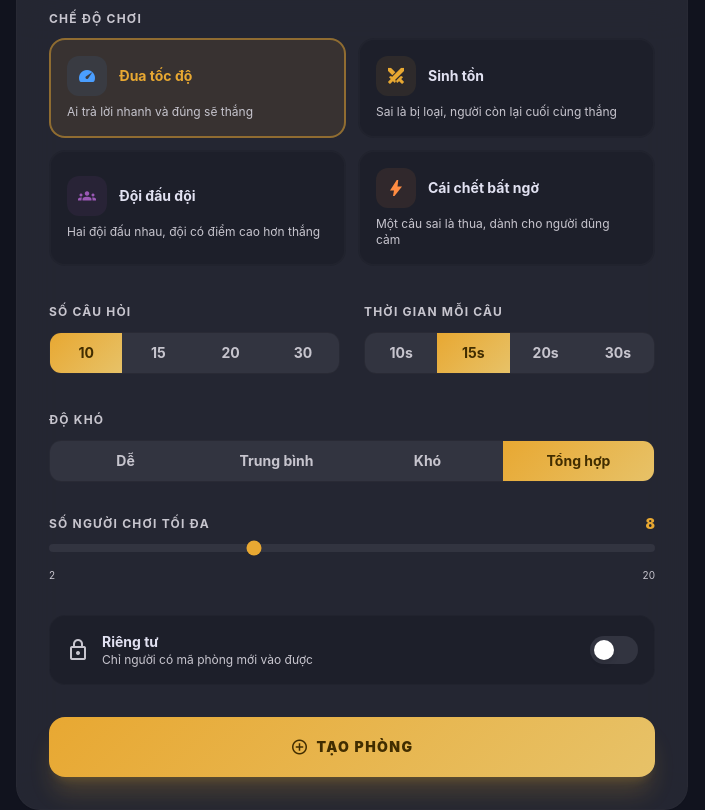
it: CreateRoom › shows loading spinner while submitting
(page scrolled)
Click the submit button: point(352, 747) [49, 717, 655, 777]
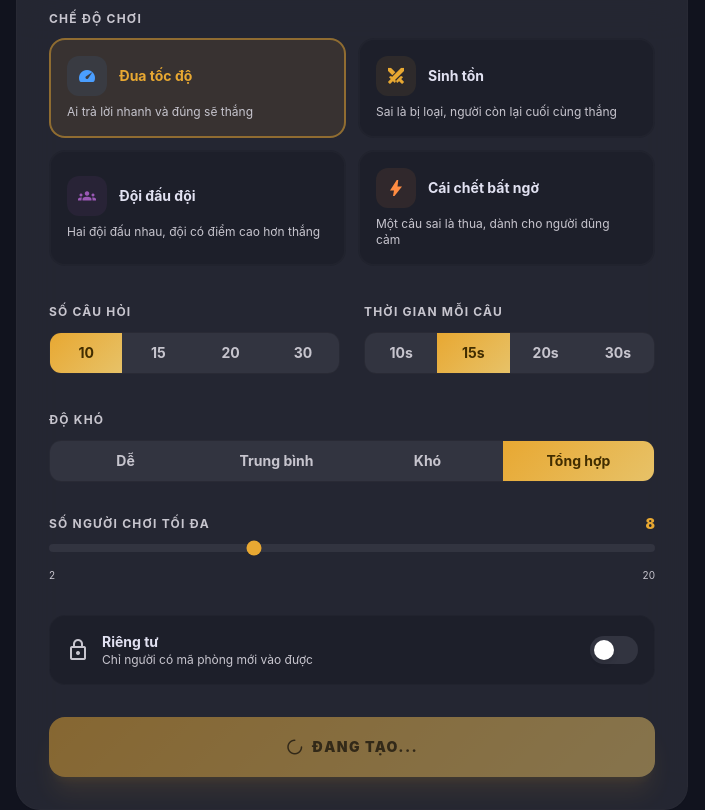
Result: the button "Đang tạo..." is shown at [49, 717, 655, 777]
